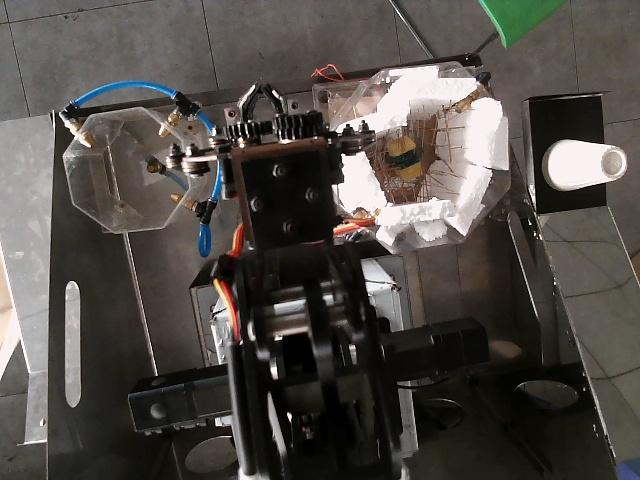cup: (542, 139, 626, 190)
